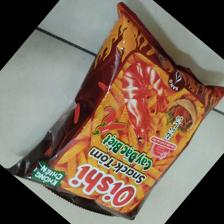Oishi_Cay: (6, 2, 224, 220)
